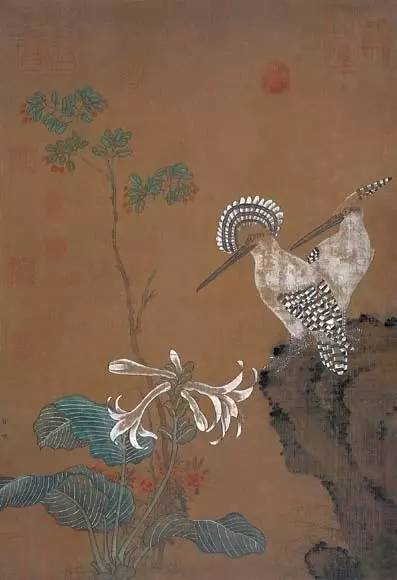bird: (208, 183, 386, 370)
flower: (92, 344, 258, 580)
tree: (18, 88, 215, 523)
